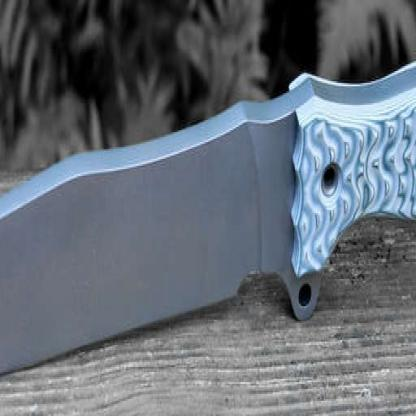knife: (0, 66, 415, 325)
